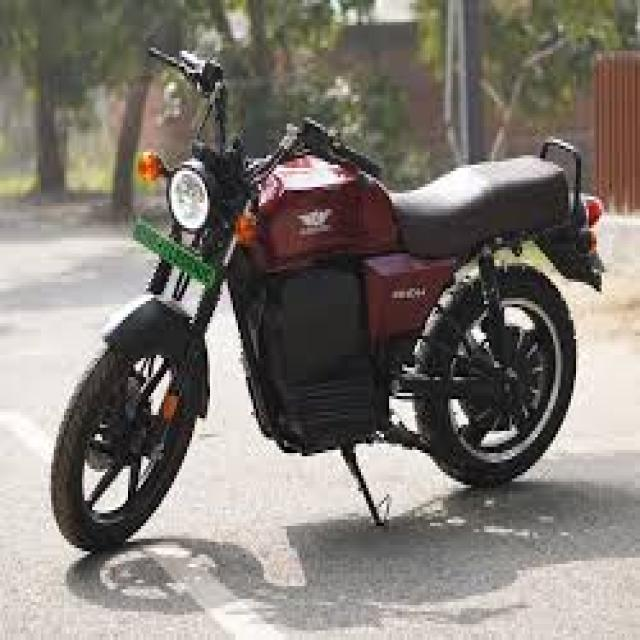bodaboda: (19, 16, 609, 618)
